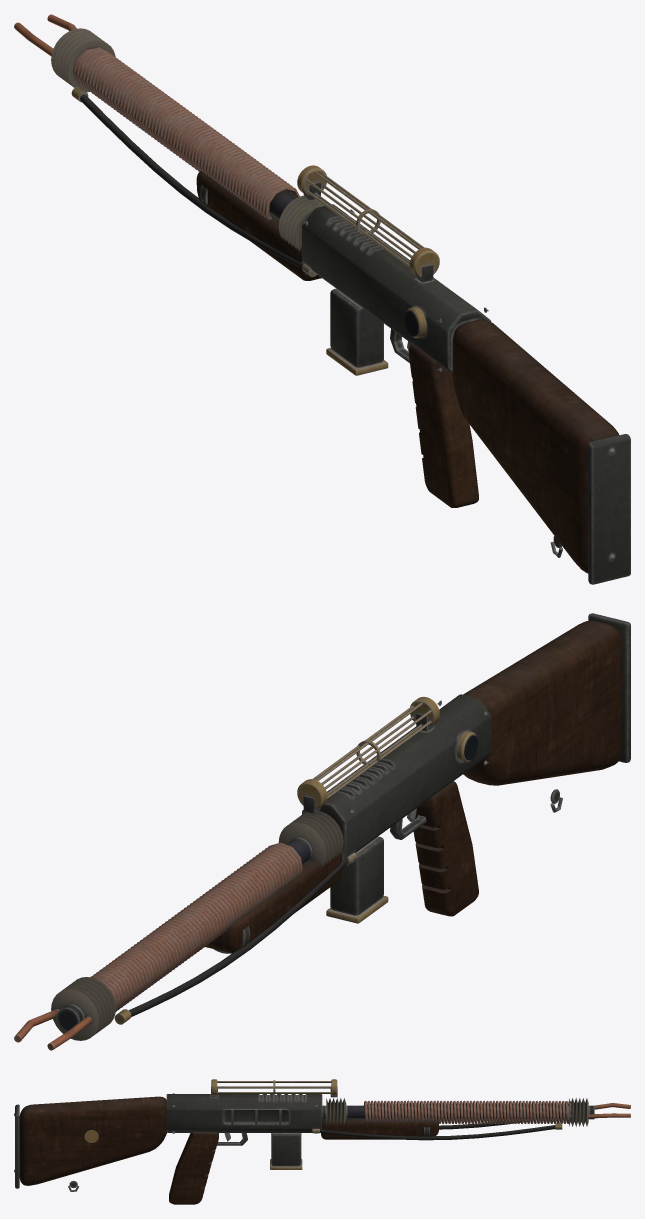
File: footman_discharge_rifle.glb
The picture shows the model from 3 angles, top to bottom: view 1: azimuth 30°, elevation 25°; view 2: azimuth 150°, elevation 25°; view 3: azimuth 270°, elevation 25°; orthographic projection. The views are drawn at different scales.
Parts seen in each view (by area): view 1: footman_discharge_rifle; view 2: footman_discharge_rifle; view 3: footman_discharge_rifle.
Boxes of the visible parts, x1,y1,x2,y2 form: footman_discharge_rifle: (14, 14, 630, 584); footman_discharge_rifle: (14, 613, 630, 1050); footman_discharge_rifle: (14, 1079, 630, 1204).
Size of the model in its own units: 0.0583 by 0.2245 by 1.03.
1 material, 1 textured.
